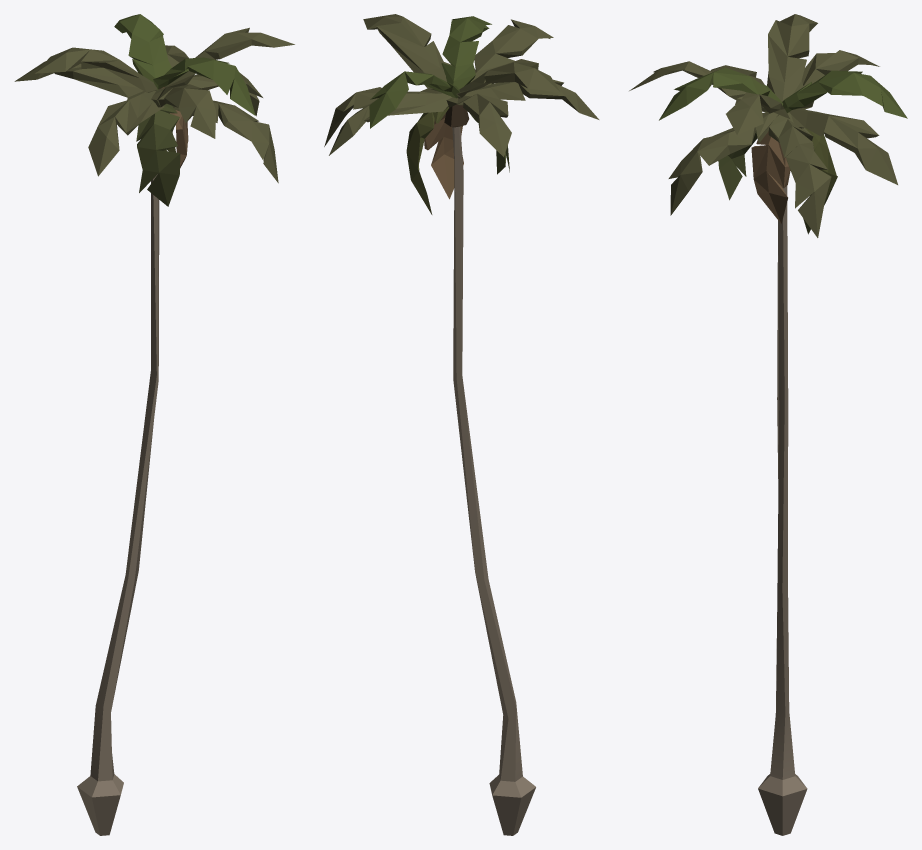
Rendered from SM_Env_PalmTree_Tall_02.glb.
3 renders of one model, left to right at view 1: azimuth 30°, elevation 25°; view 2: azimuth 150°, elevation 25°; view 3: azimuth 270°, elevation 25°, orthographic. The views are drawn at different scales.
Parts seen in each view (by area): view 1: SM_Env_PalmTree_Tall_02; view 2: SM_Env_PalmTree_Tall_02; view 3: SM_Env_PalmTree_Tall_02.
Boxes of the visible parts, x1,y1,x2,y2 form: SM_Env_PalmTree_Tall_02: (14, 14, 294, 835); SM_Env_PalmTree_Tall_02: (324, 14, 599, 835); SM_Env_PalmTree_Tall_02: (629, 14, 907, 835).
Size of the model in its own units: 0.0489 by 0.1587 by 0.0501.
